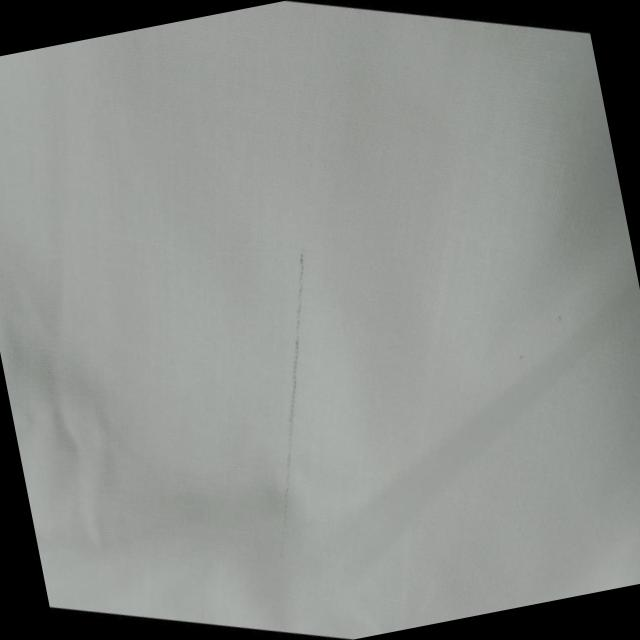contamination: (223, 233, 364, 542)
